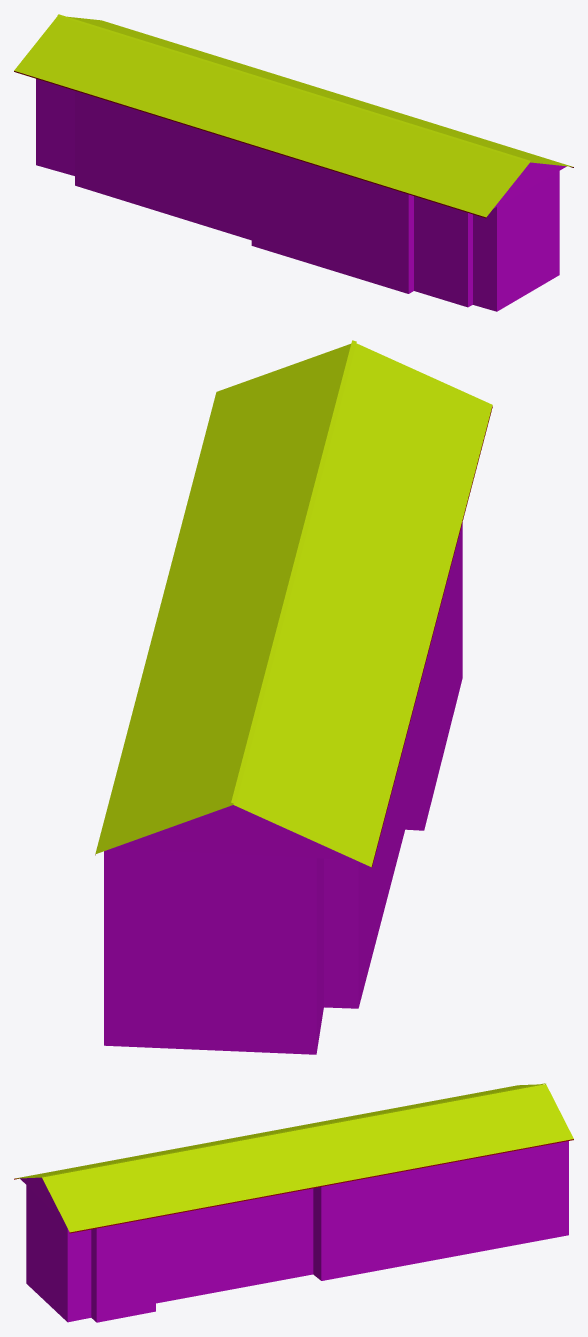
Rendered from bgj_248.glb.
3 views of the same model, one above another, from view 1: azimuth 30°, elevation 25°; view 2: azimuth 150°, elevation 25°; view 3: azimuth 270°, elevation 25° (orthographic). The views are drawn at different scales.
Parts seen in each view (by area): view 1: bgj_248; view 2: bgj_248; view 3: bgj_248.
Part boxes in pixels (x1,y1,x2,y2): bgj_248: [14, 14, 573, 311]; bgj_248: [95, 340, 492, 1054]; bgj_248: [14, 1083, 573, 1322].
Bounding box in the file's own units: 35.85 × 14.32 × 57.61.
